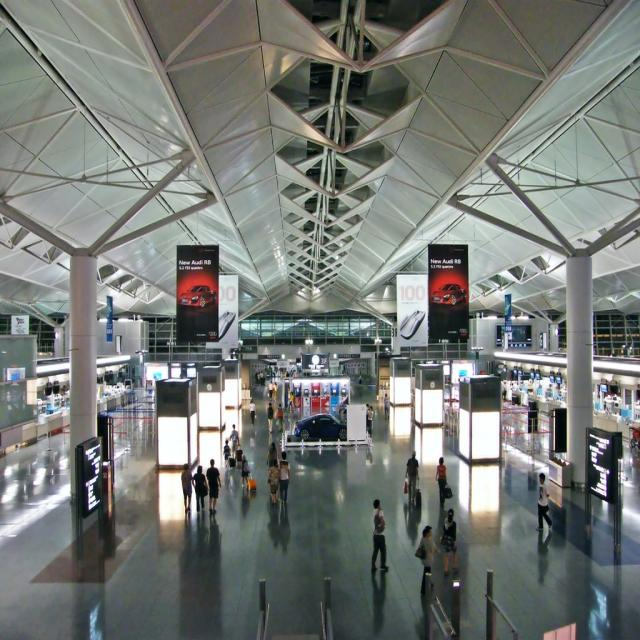car: (291, 412, 346, 440), (176, 283, 215, 307), (428, 282, 466, 303)
